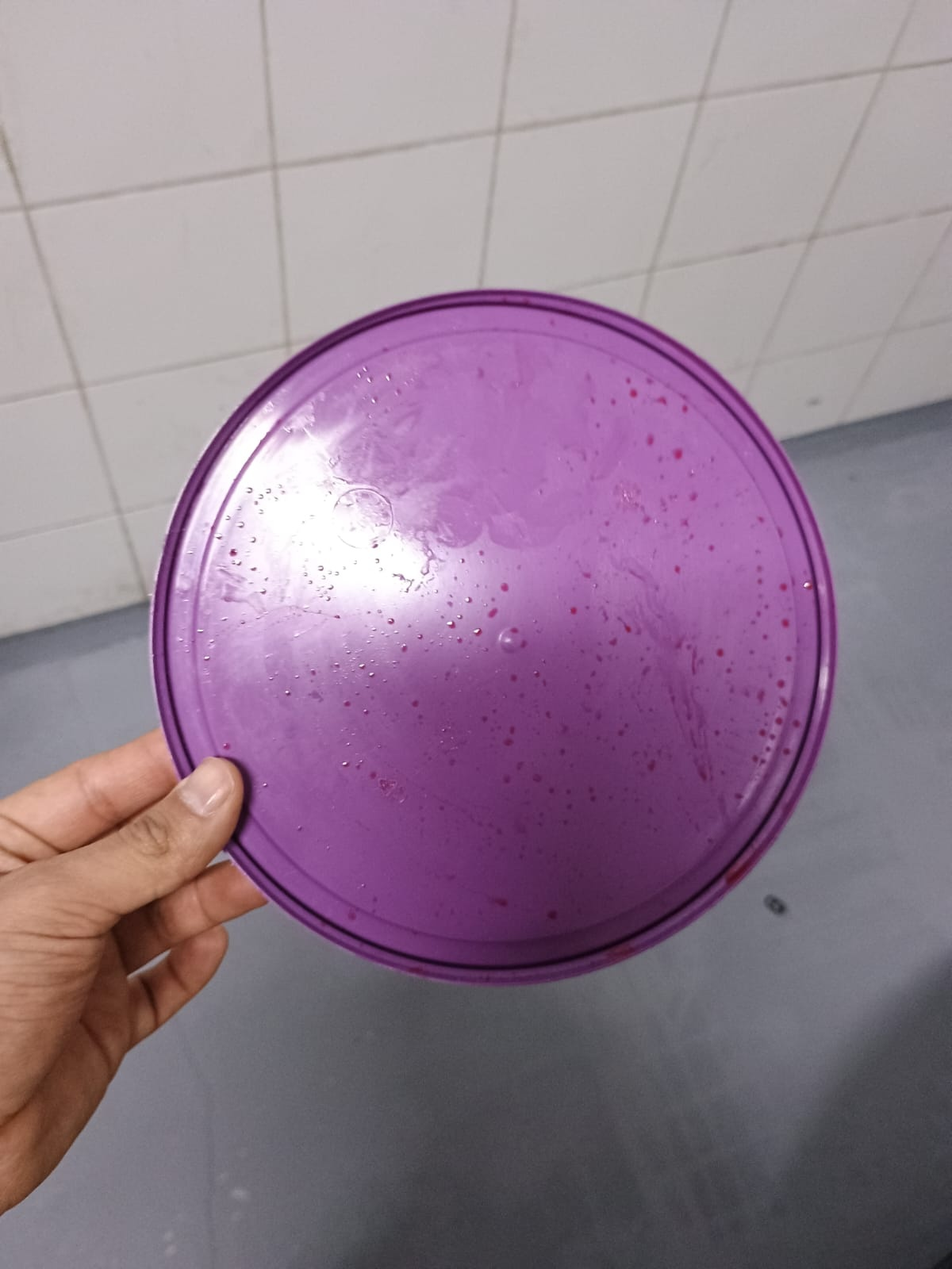Plastico: (149, 287, 839, 984)
